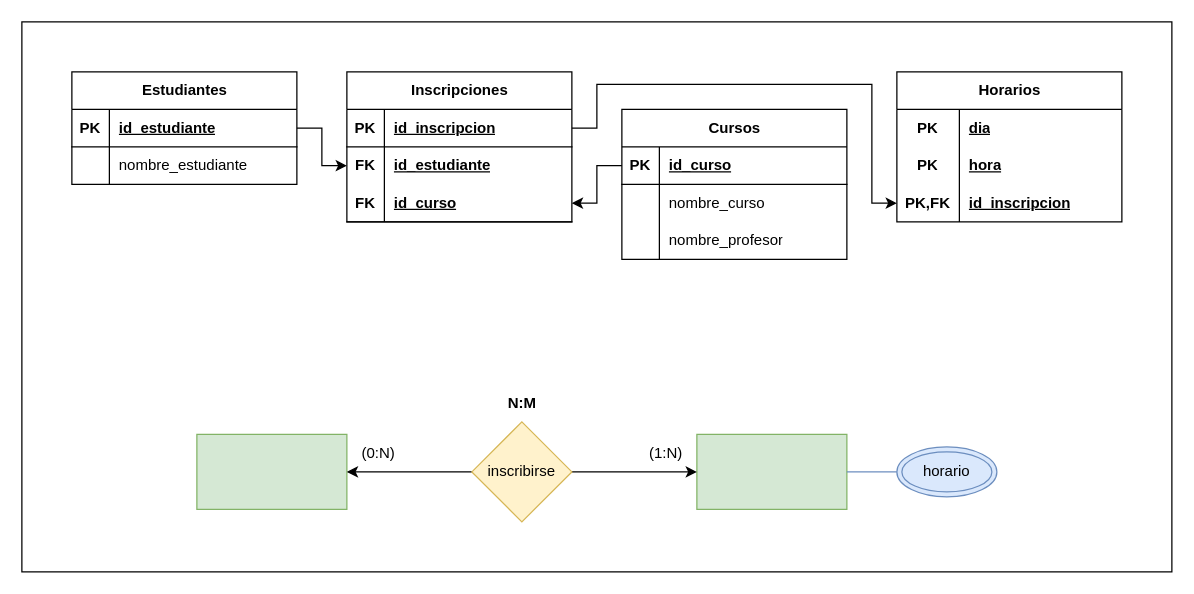
This 1194x594 diagram has some shape labels left out. Here are the shapes that lost their labels. From the top down, the centre of each, then its label:
At point (271, 471): "Estudiante".
At point (771, 471): "Curso".
